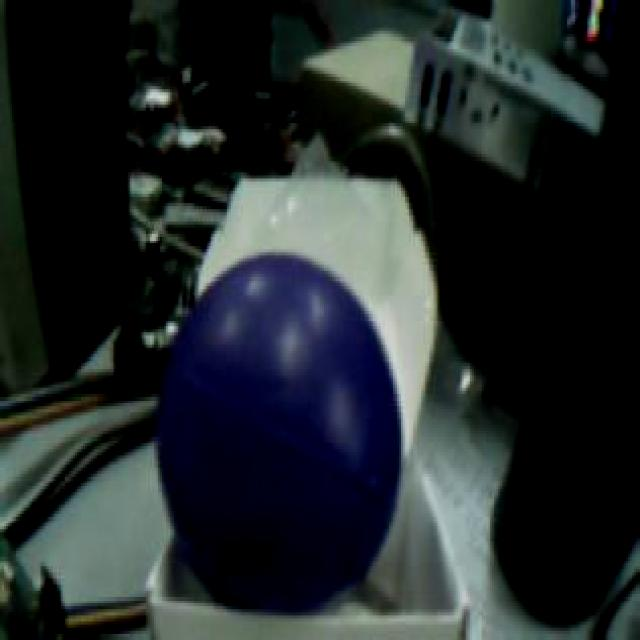BallPurple: (155, 252, 401, 607)
